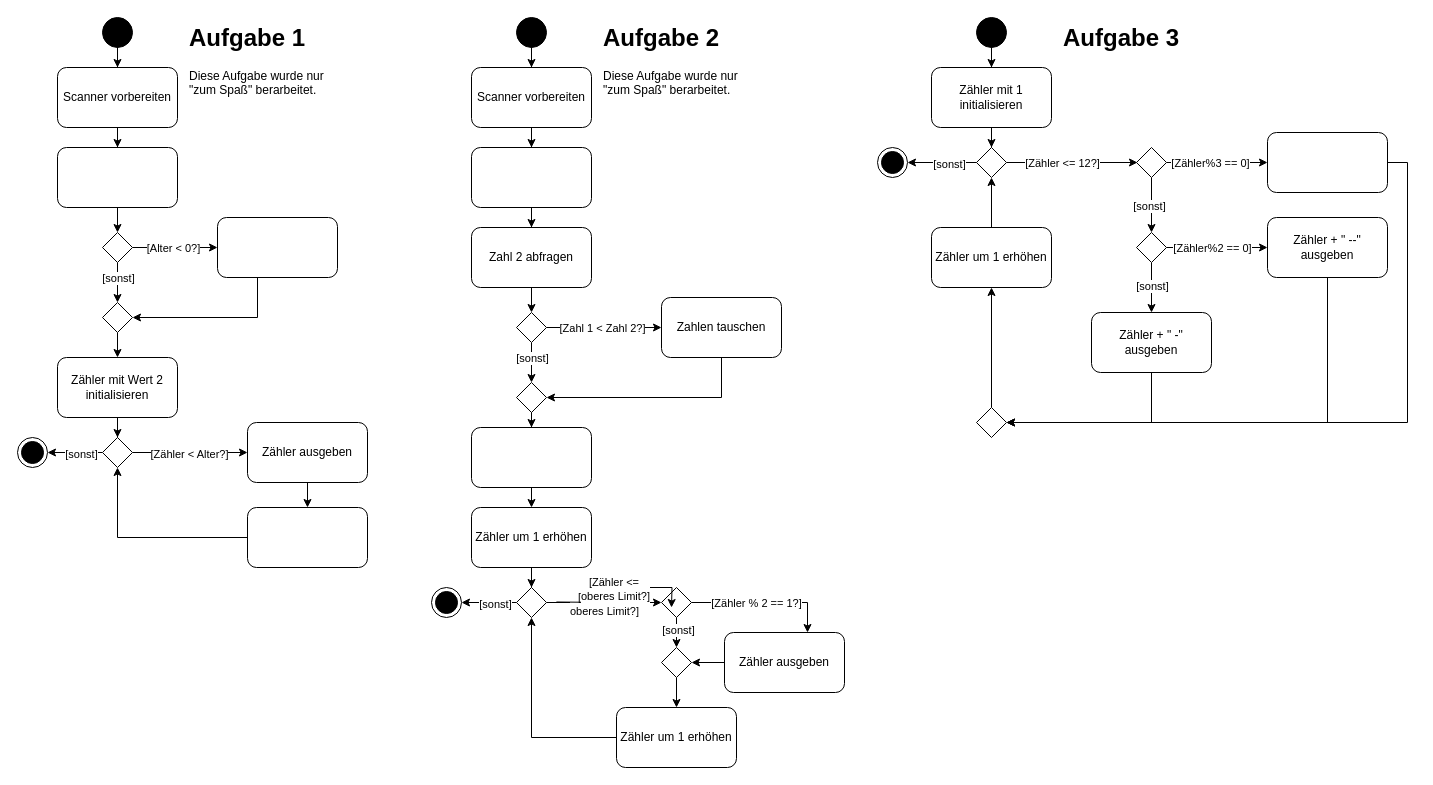
Some shapes in this 1433 by 785 pixel diagram are drawn without their labels. The box of each missing label's shape, as (x1, y1, x2, y2) in pixels:
Alter abfragen: (56, 146, 178, 208)
Warnmeldung ausgeben: (216, 216, 338, 278)
Zahl 1 abfragen: (470, 146, 592, 208)
Zähler + " ---" ausgeben: (1266, 132, 1388, 192)
Zähler = Zahl1 oberes Limit = Zahl2: (470, 426, 592, 488)
Zähler um 2 erhöhen: (246, 506, 368, 568)
